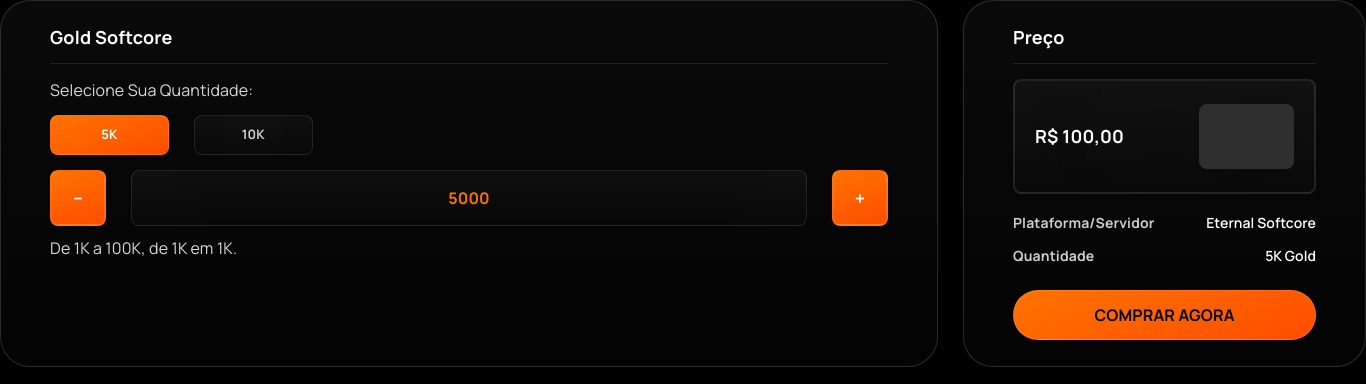
QuantityConfigurator › −/+ andam pelo passo e o campo livre é preso à regra
Click the button named "Aumentar gold" at [860, 198], box [832,170,888,226]
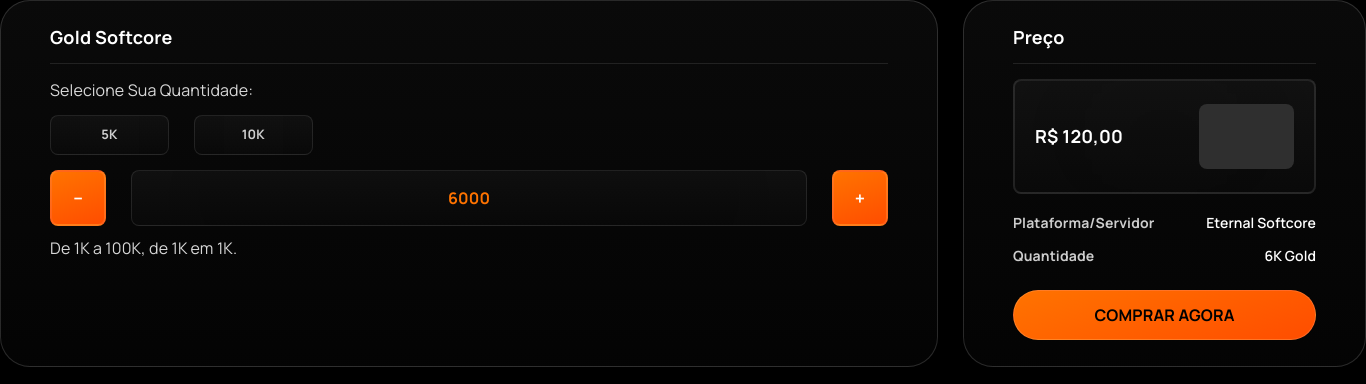
expect the number field named "Quantidade (Gold)" holds "6000": met
Replace the text in the number field named "Quantidade (Gold)" with "2345" at [469, 198], box [131,170,807,226]
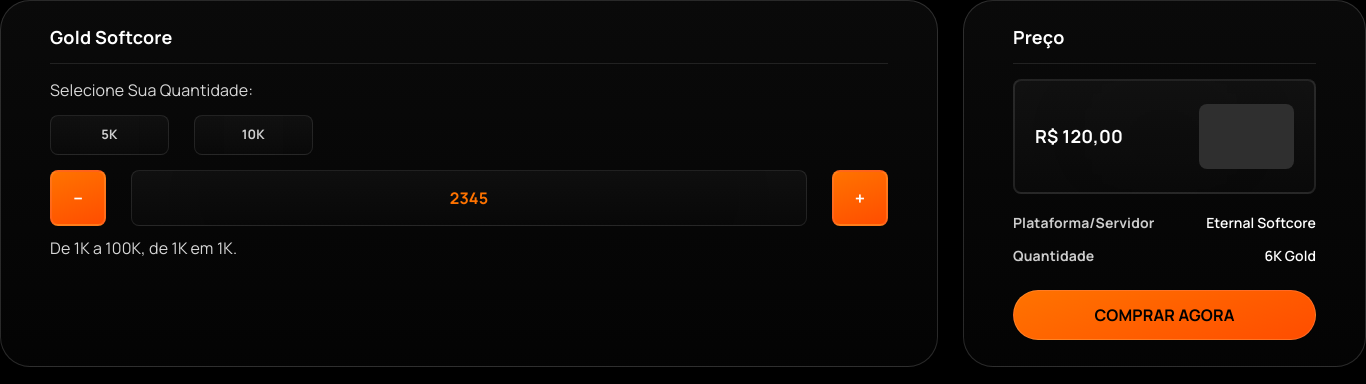
Leave the number field named "Quantidade (Gold)", box [131,170,807,226]
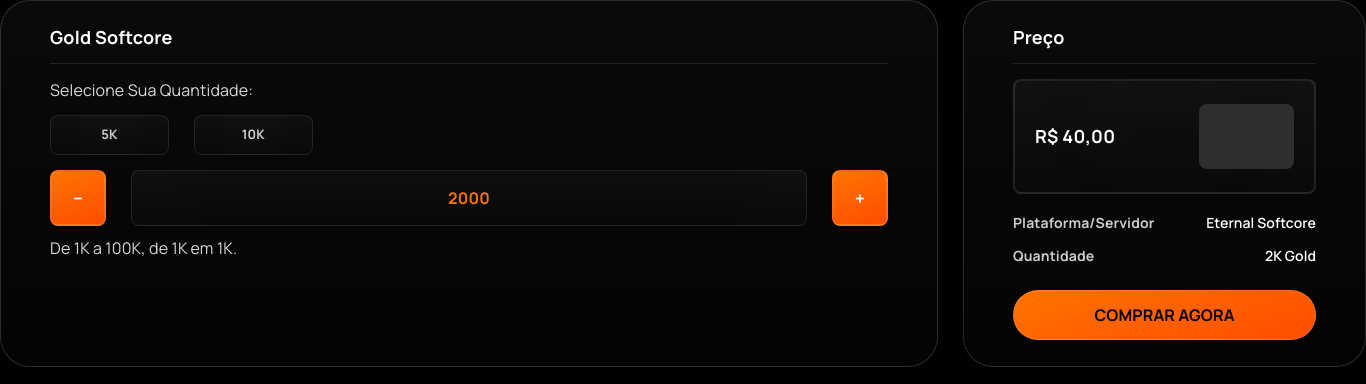
expect the number field named "Quantidade (Gold)" holds "2000": met
Replace the text in the number field named "Quantidade (Gold)" with "999999" at [469, 198], box [131,170,807,226]
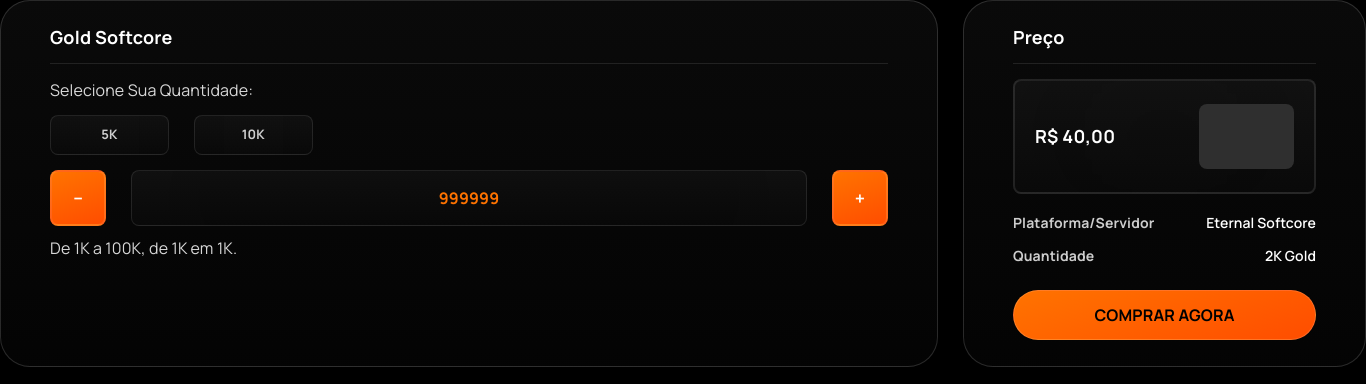
Leave the number field named "Quantidade (Gold)", box [131,170,807,226]
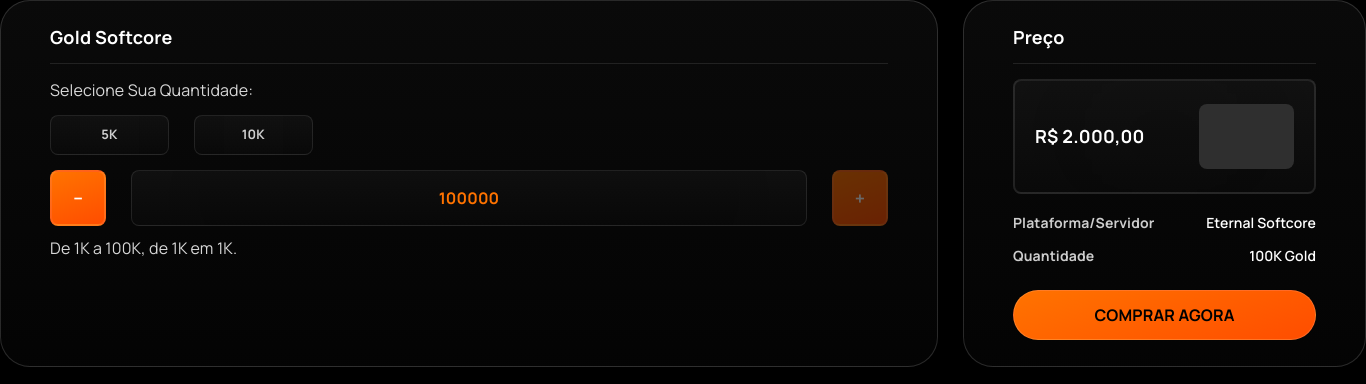
expect the number field named "Quantidade (Gold)" holds "100000": met, box [131,170,807,226]
expect the button named "Aumentar gold" is disabled: met, box [832,170,888,226]
